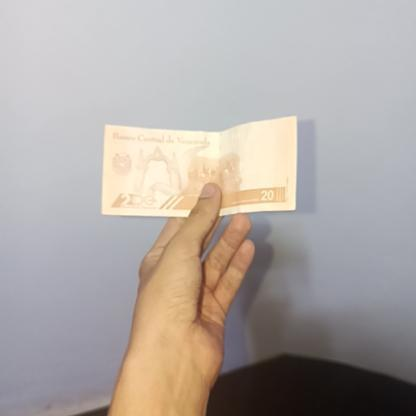twenty-back-vef: (101, 117, 297, 219)
